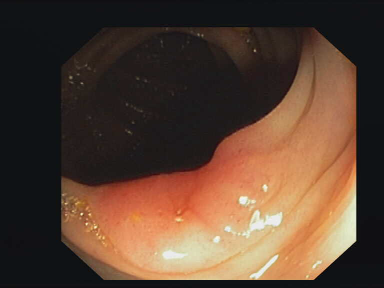polyp: (126, 172, 227, 240)
